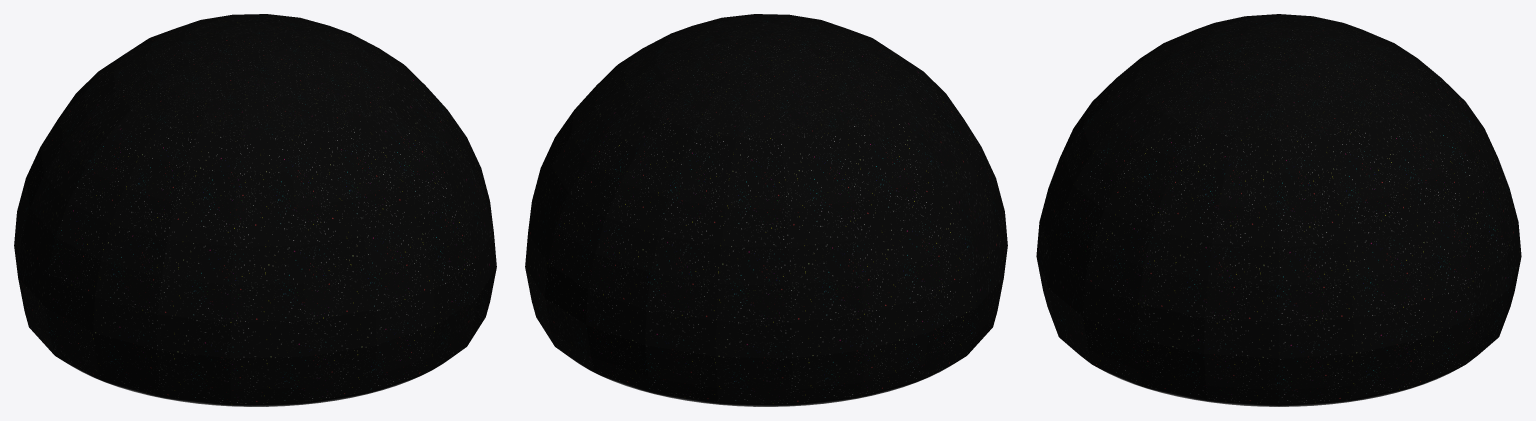
Rendered from AuroraSky.dae.
3 renders of one model, left to right at view 1: azimuth 30°, elevation 25°; view 2: azimuth 150°, elevation 25°; view 3: azimuth 270°, elevation 25°, orthographic.
Parts seen in each view (by area): view 1: m1, m2; view 2: m1, m2; view 3: m1, m2.
Part boxes in pixels (left/top/right/bottom): m1: left=14, top=14, right=496, bottom=404; m2: left=57, top=348, right=464, bottom=406; m1: left=525, top=14, right=1007, bottom=404; m2: left=557, top=348, right=964, bottom=406; m1: left=1036, top=14, right=1521, bottom=404; m2: left=1065, top=342, right=1492, bottom=406.
Bounding box in the file's own units: 1410909 × 885822 × 1410909.
Materials: 4 (4 with a texture image).
